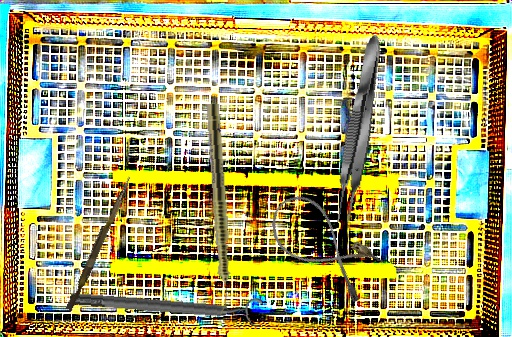Cannula: (258, 185, 390, 307)
Fixation Ring: (69, 281, 262, 330)
Handpiece: (203, 103, 235, 315)
Pusher: (65, 173, 133, 313)
Tissue Forceps: (330, 32, 389, 226)
